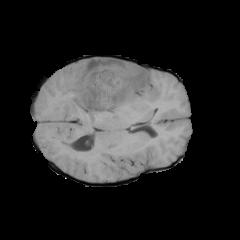glioma: (61, 58, 150, 120)
